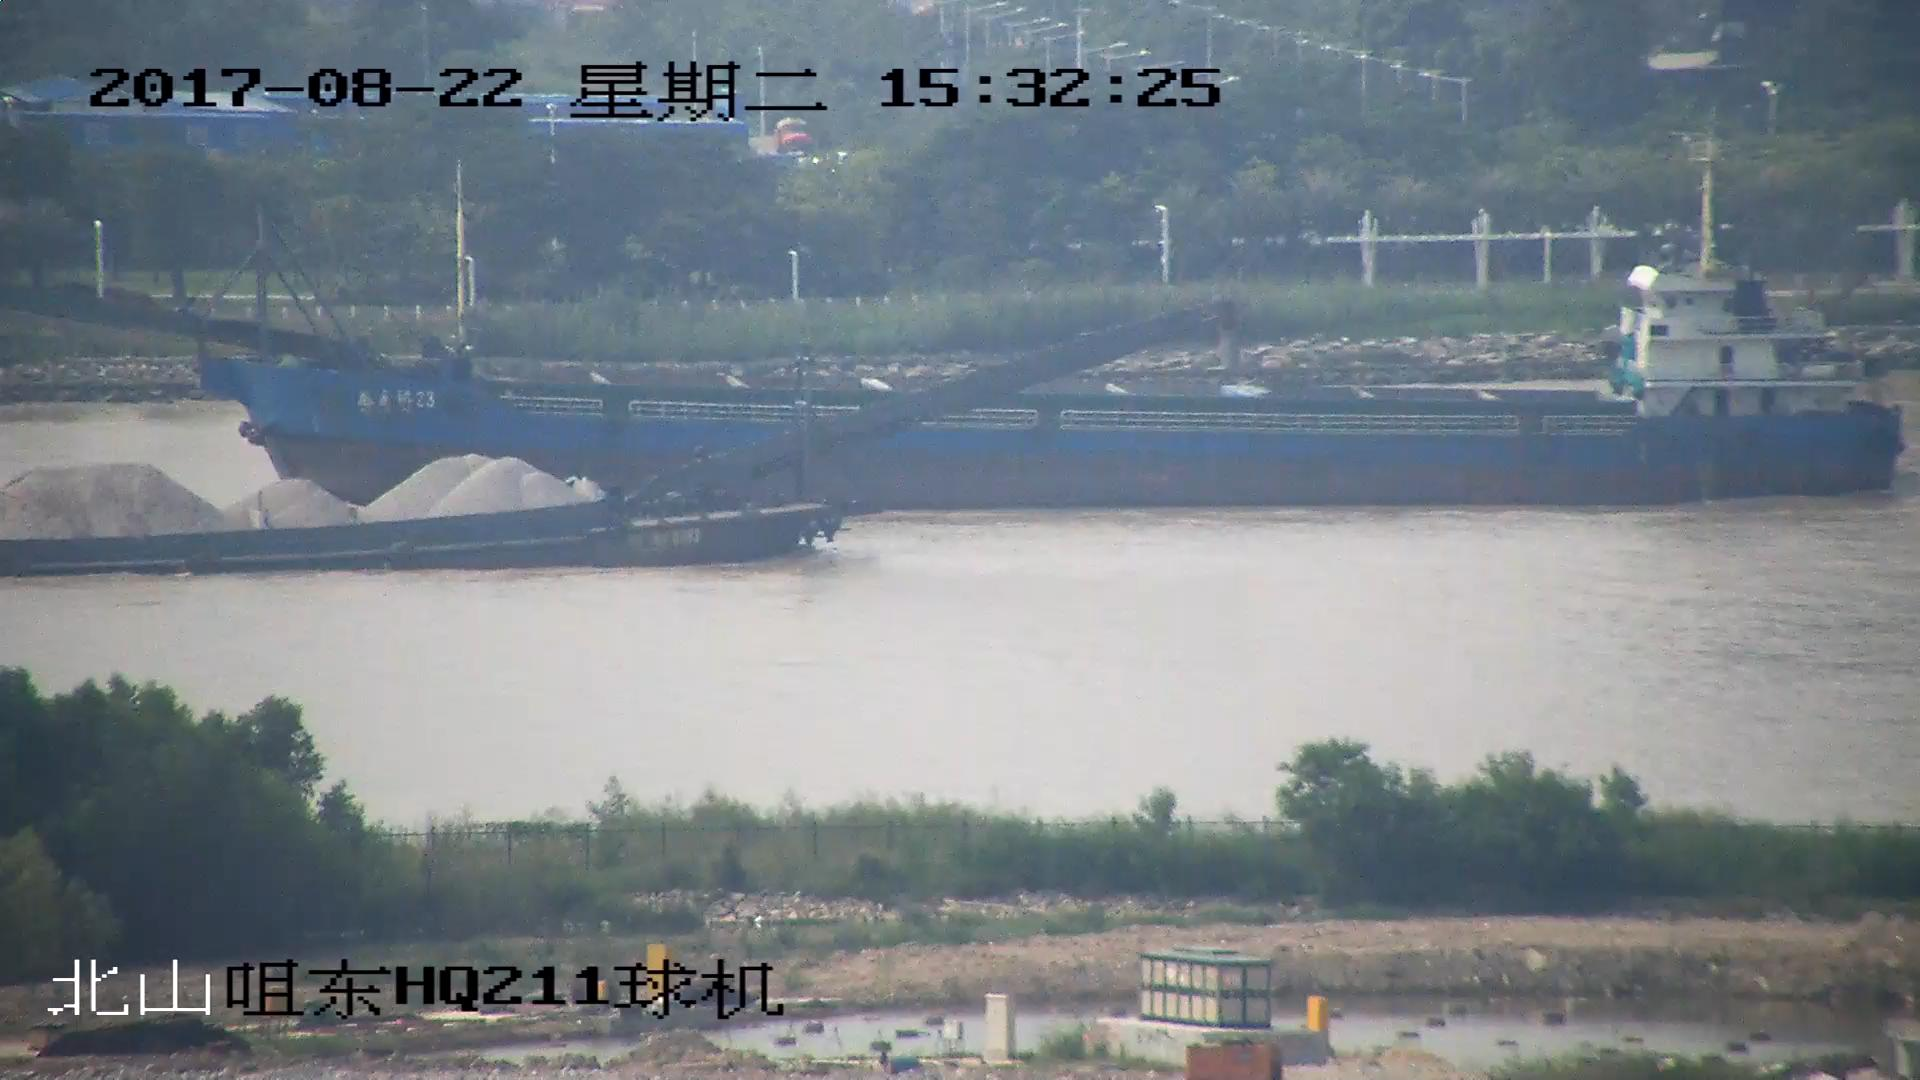bulk cargo carrier: (1, 138, 1906, 503)
ore carrier: (1, 308, 1235, 582)
